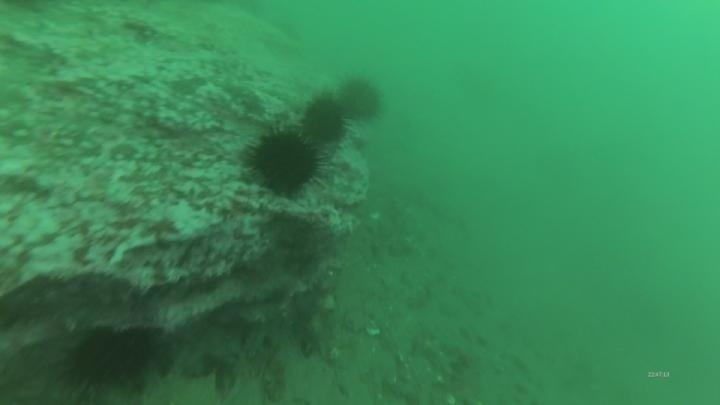echinus: (58, 323, 161, 396), (243, 124, 325, 199), (299, 93, 350, 146), (335, 74, 386, 124)
